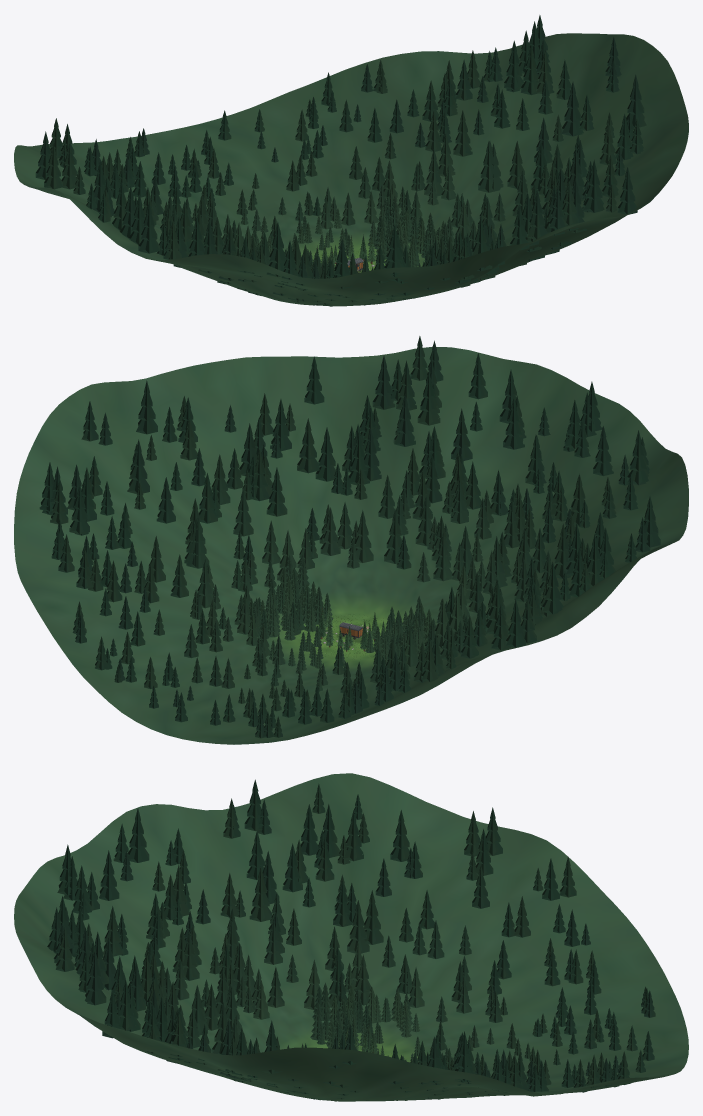
File: scena_drevo.glb
The picture shows the model from 3 angles, top to bottom: view 1: azimuth 30°, elevation 25°; view 2: azimuth 150°, elevation 25°; view 3: azimuth 270°, elevation 25°; orthographic projection.
Visible parts, largest first — view 1: Teren, Les_daleko, Les_blizko; view 2: Teren, Les_daleko, Les_blizko; view 3: Teren, Les_daleko, Les_blizko.
Boxes of the visible parts, x1=… form: Teren: x1=14, y1=33, x2=688, y2=306; Les_daleko: x1=35, y1=15, x2=646, y2=306; Les_blizko: x1=251, y1=196, x2=454, y2=270; Teren: x1=14, y1=346, x2=688, y2=744; Les_daleko: x1=39, y1=336, x2=660, y2=738; Les_blizko: x1=252, y1=554, x2=447, y2=674; Teren: x1=14, y1=773, x2=688, y2=1101; Les_daleko: x1=47, y1=779, x2=655, y2=1101; Les_blizko: x1=310, y1=982, x2=448, y2=1062.
Bounding box in the file's own units: 176 × 51.67 × 176.
